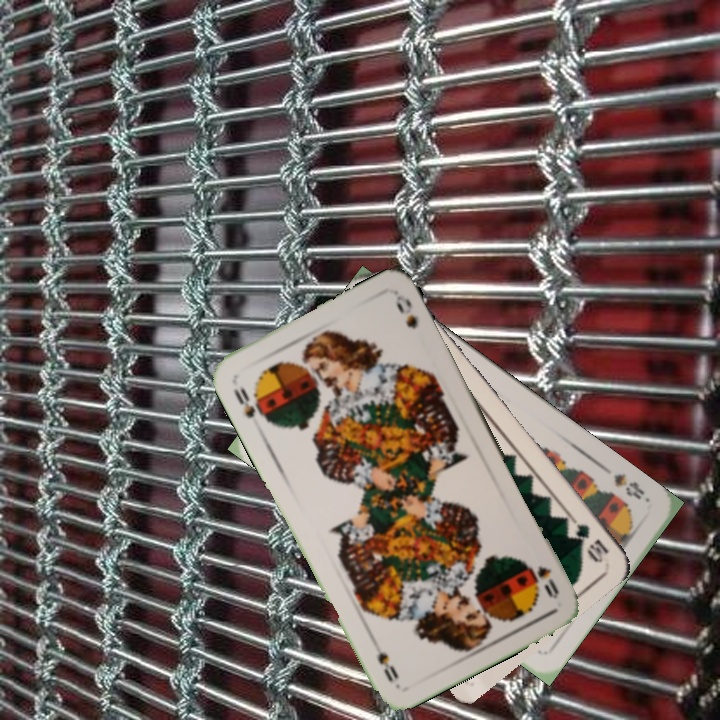G10: (563, 513, 612, 566)
S8: (610, 469, 648, 502)
SO: (533, 561, 562, 602), (229, 382, 258, 421)
